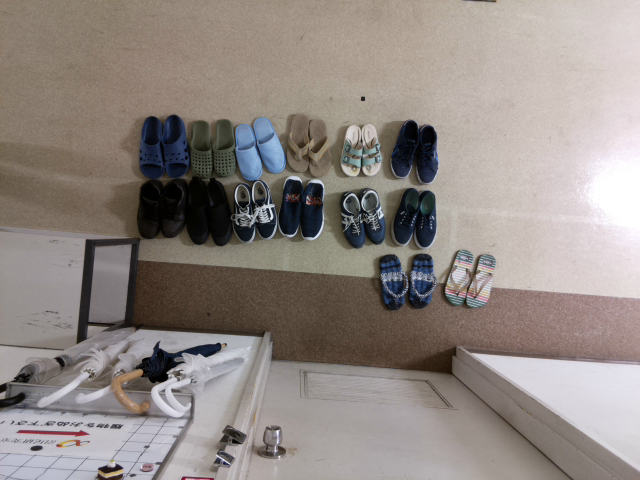Copy of Copy of Copy of Copy of Copy of Copy of Copy of Copy of Copy of Copy of: (437, 244, 479, 310), (461, 247, 503, 312), (409, 121, 447, 187), (128, 175, 166, 241), (386, 114, 423, 181), (154, 175, 191, 242), (180, 172, 213, 245), (203, 177, 236, 250), (226, 176, 259, 249), (273, 172, 306, 245), (249, 173, 282, 245), (297, 176, 330, 248), (410, 187, 444, 253), (406, 249, 440, 315), (373, 251, 406, 317), (389, 185, 422, 250), (358, 184, 390, 251), (336, 185, 367, 251)
Copy of Copy of Copy of Copy of Copy of Copy of Copy of Copy of Copy of shoe: (355, 118, 389, 184)
Copy of Copy of Copy of Copy of Copy of Copy of Copy of Copy of shoe: (332, 118, 366, 184)
Copy of Copy of Copy of Copy of Copy of Copy of Copy of shoe: (297, 112, 333, 184)
Copy of Copy of Copy of Copy of Copy of Copy of shoe: (280, 107, 310, 179)
Copy of Copy of Copy of Copy of Copy of shoe: (250, 112, 288, 176)
Copy of Copy of Copy of Copy of Copy of umbrella: (1, 323, 141, 412)
Copy of Copy of Copy of Copy of shoe: (229, 116, 264, 182)
Copy of Copy of Copy of Copy of umbrella: (36, 326, 148, 413)
Copy of Copy of Copy of shoe: (206, 113, 240, 179)
Copy of Copy of Copy of umbrella: (69, 323, 156, 413)
Copy of Copy of shoe: (185, 115, 218, 182)
Copy of Copy of umbrella: (99, 336, 241, 417)
Copy of shoe: (158, 112, 191, 178)
Copy of umbrella: (164, 350, 256, 419)
shoe: (133, 112, 166, 179)
umbrella: (148, 338, 260, 425)
